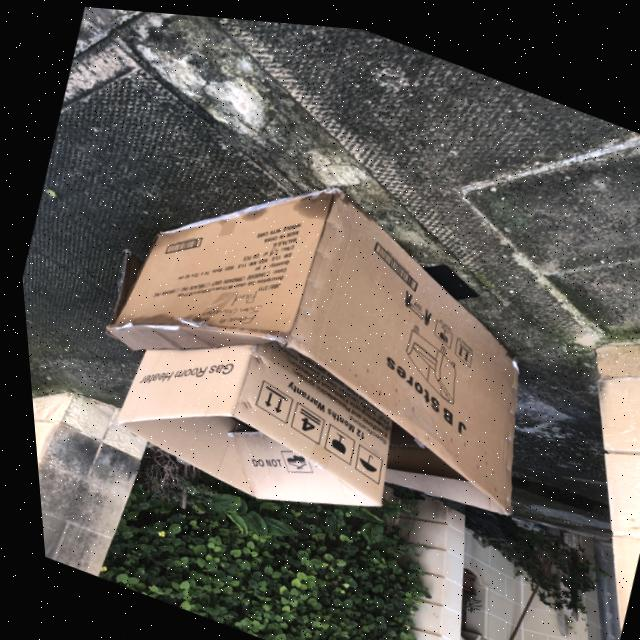Other: (75, 112, 580, 529), (93, 285, 409, 541)
